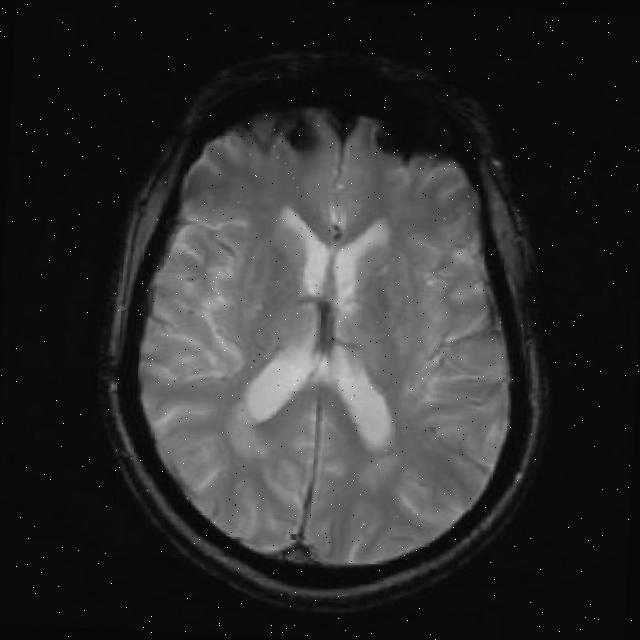MCI: (266, 120, 416, 174), (434, 222, 490, 328)
